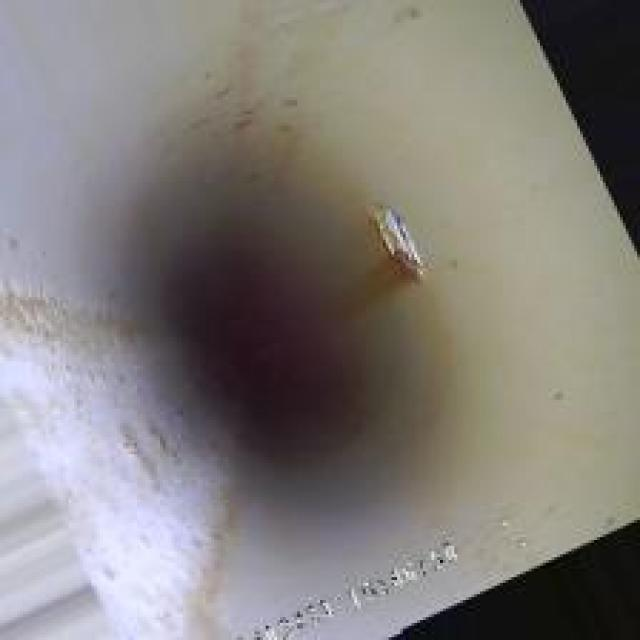ferrule: (343, 188, 434, 286)
